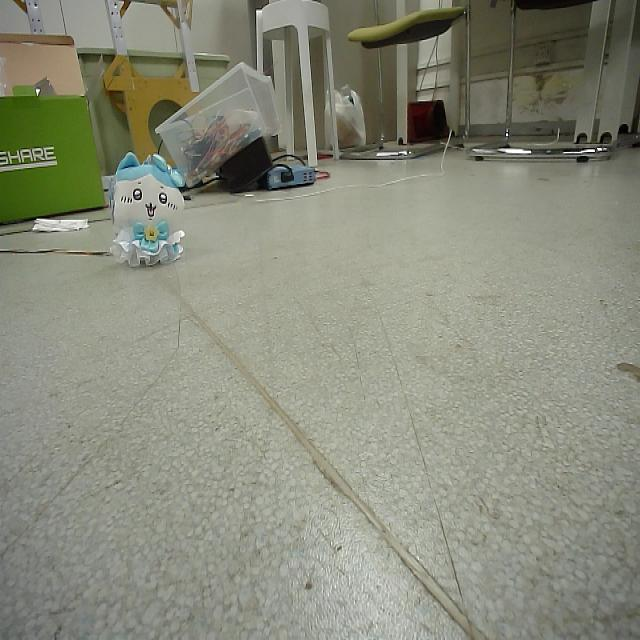xiaoba: (100, 153, 189, 274)
